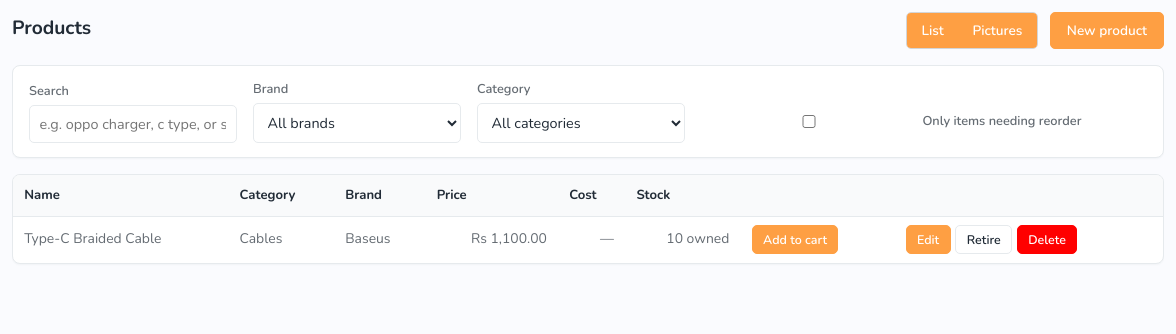
Test: Products filters › has no Clear button until a filter is set
The image size is (1176, 334).
Expected: the button "clear filters" is not shown
Select "Chargers" in the dropdown labelled "Category": (581, 123) [477, 103, 685, 143]
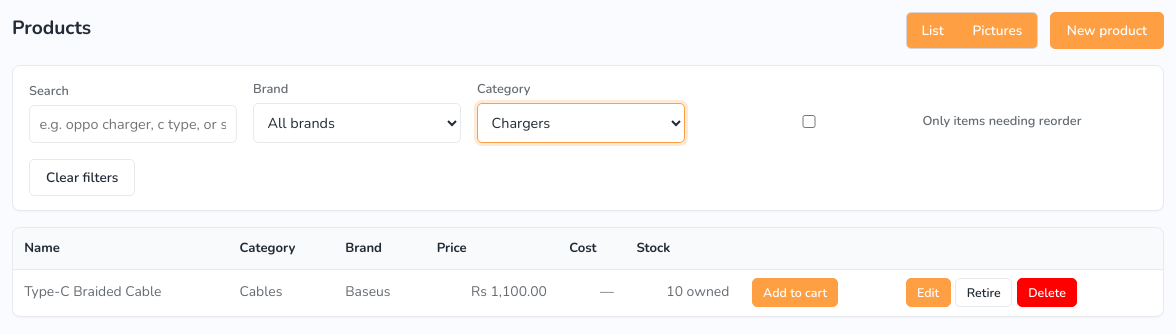
Result: the button "Clear filters" is shown at [29, 159, 135, 196]
